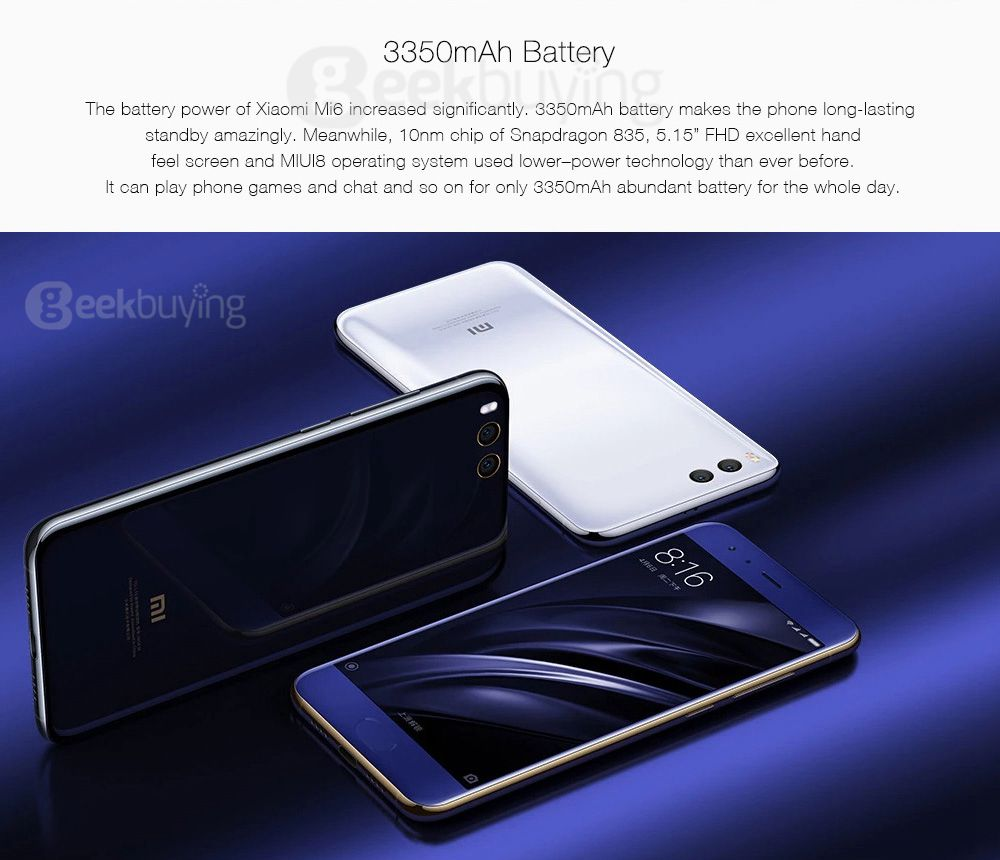smartphone: (25, 370, 510, 748), (293, 523, 861, 828), (335, 260, 779, 548)
